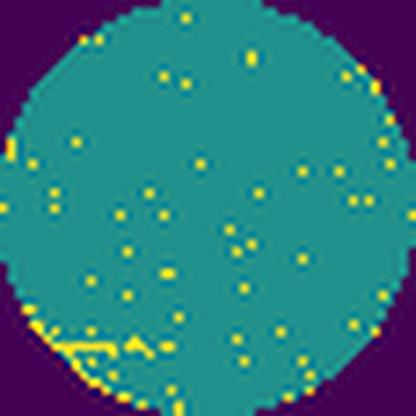Scratch: (45, 337, 124, 359)
